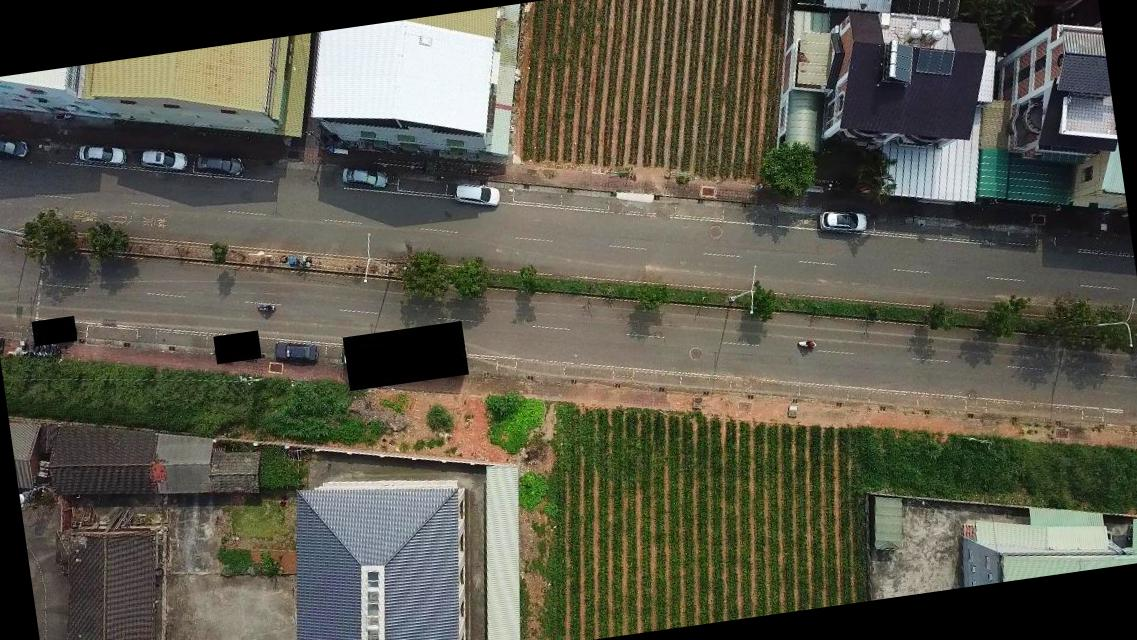vehicle: (193, 146, 247, 184), (448, 177, 500, 213), (816, 206, 870, 240), (74, 139, 126, 171), (140, 145, 188, 177), (341, 162, 388, 194), (272, 338, 318, 368), (0, 131, 31, 165)
